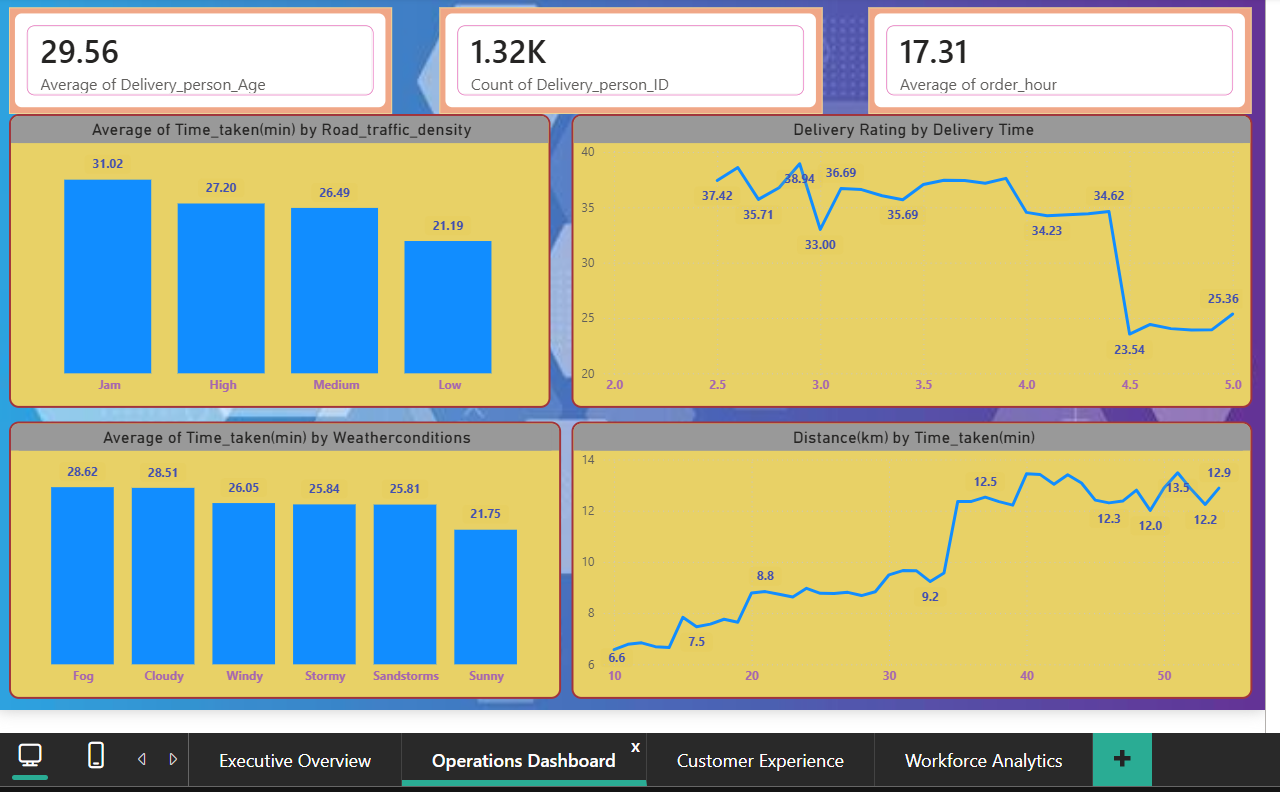

The page's visual inventory and layout, read from the dashboard file:
{"tool":"powerbi","page":{"name":"Operations Dashboard","canvas":[1280,720],"ordinal":1},"visuals":[{"type":"clusteredColumnChart","fields":{"Category":["food_delivery_cleaned.Road_traffic_density"],"Y":["Avg(food_delivery_cleaned.Time_taken(min))"]},"box":[12.1,118.1,546.6,296.8],"z":0},{"type":"clusteredColumnChart","fields":{"Category":["food_delivery_cleaned.Weatherconditions"],"Y":["Avg(food_delivery_cleaned.Time_taken(min))"]},"box":[12.1,428.5,557.2,280.1],"z":1000},{"type":"lineChart","title":"Delivery Rating by Delivery Time","fields":{"Y":["Avg(food_delivery_cleaned.Time_taken(min))"],"Category":["food_delivery_cleaned.Delivery_person_Ratings"]},"box":[579.9,118.1,687.4,296.8],"z":1001},{"type":"lineChart","title":"Distance(km) by Time_taken(min)","fields":{"Y":["Avg(food_delivery_cleaned.distance_km)"],"Category":["food_delivery_cleaned.Time_taken(min)"]},"box":[579.9,428.5,687.4,280.1],"z":1002},{"type":"cardVisual","fields":{"Data":["Count(food_delivery_cleaned.Delivery_person_ID)"]},"box":[446.8,11.1,386.8,107.4],"z":1003},{"type":"cardVisual","fields":{"Data":["Avg(food_delivery_cleaned.Delivery_person_Age)"]},"box":[12.6,11.1,386.8,107.4],"z":1004},{"type":"cardVisual","fields":{"Data":["Avg(food_delivery_cleaned.order_hour)"]},"box":[879.5,11.1,386.8,107.4],"z":1006}]}

Visuals, with their boxes on the page's 1280x720 design canvas (x1, y1, x2, y2). These are canvas units, not pixel positions in the 1280x792 screenshot, which may show the page scaled, cropped or inside an application window:
clusteredColumnChart - food_delivery_cleaned.Road_traffic_density x Avg(food_delivery_cleaned.Time_taken(min)): (x1=12, y1=118, x2=559, y2=415)
clusteredColumnChart - food_delivery_cleaned.Weatherconditions x Avg(food_delivery_cleaned.Time_taken(min)): (x1=12, y1=428, x2=569, y2=709)
"Delivery Rating by Delivery Time" lineChart: (x1=580, y1=118, x2=1267, y2=415)
"Distance(km) by Time_taken(min)" lineChart: (x1=580, y1=428, x2=1267, y2=709)
cardVisual - Count(food_delivery_cleaned.Delivery_person_ID): (x1=447, y1=11, x2=834, y2=118)
cardVisual - Avg(food_delivery_cleaned.Delivery_person_Age): (x1=13, y1=11, x2=399, y2=118)
cardVisual - Avg(food_delivery_cleaned.order_hour): (x1=880, y1=11, x2=1266, y2=118)
